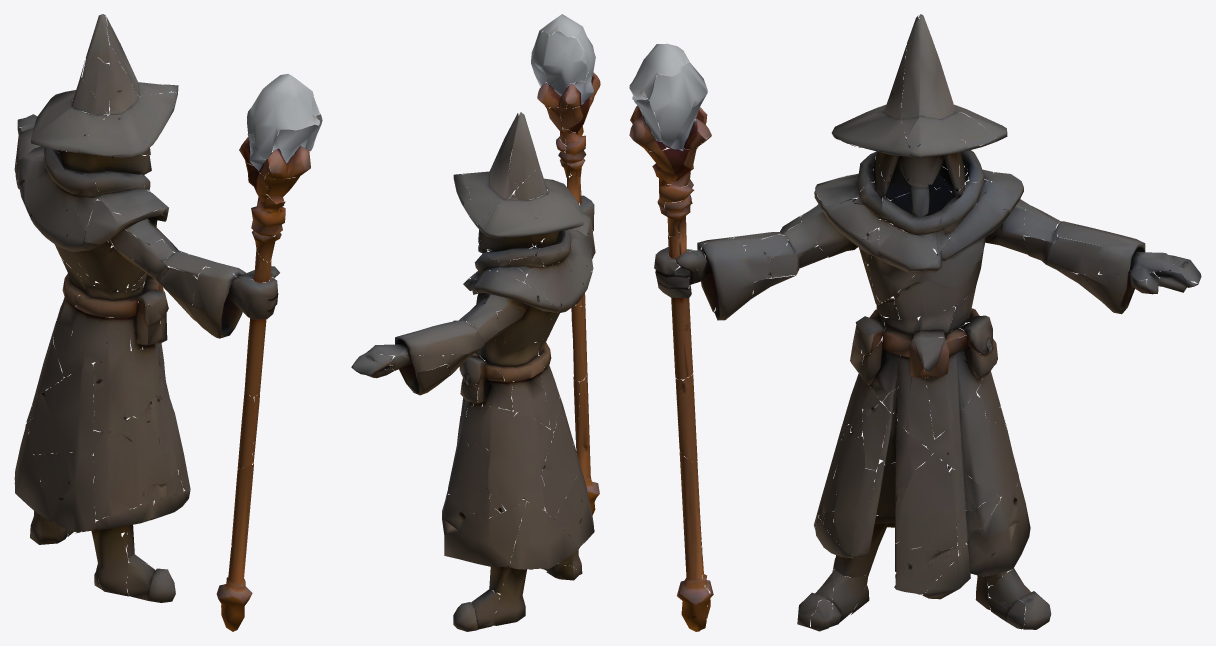
Rendered from mago.glb.
3 views of the same model, side by side, from view 1: azimuth 30°, elevation 25°; view 2: azimuth 150°, elevation 25°; view 3: azimuth 270°, elevation 25° (orthographic). The views are drawn at different scales.
Visible parts, largest first — view 1: MAGO_lowpoly; view 2: MAGO_lowpoly; view 3: MAGO_lowpoly.
Boxes of the visible parts, <box> form: MAGO_lowpoly: <box>14,14,322,631</box>; MAGO_lowpoly: <box>351,14,600,631</box>; MAGO_lowpoly: <box>629,14,1201,631</box>.
Bounding box in the file's own units: 0.3205 × 1 × 0.8488.
Materials: 1 (1 with a texture image).
